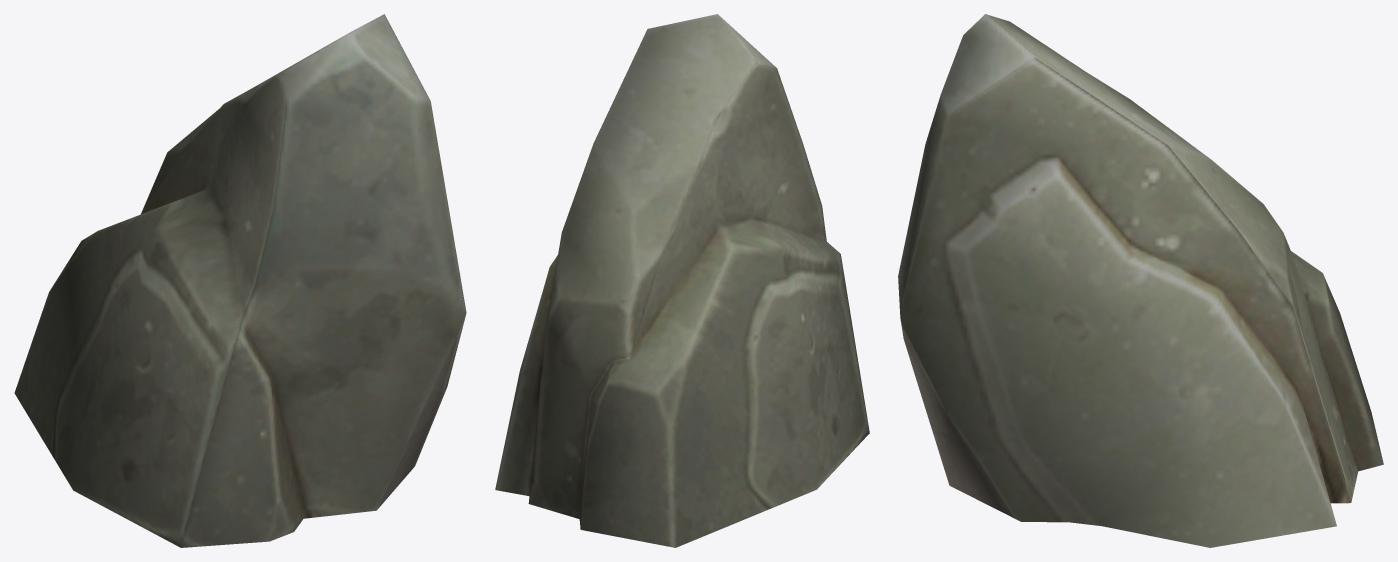
File: Lty_st_02.FBX
3 views of the same model, side by side, from view 1: azimuth 30°, elevation 25°; view 2: azimuth 150°, elevation 25°; view 3: azimuth 270°, elevation 25° (orthographic). The views are drawn at different scales.
Parts seen in each view (by area): view 1: Mesh 1; view 2: Mesh 1; view 3: Mesh 1.
Part boxes in pixels (box(x1,y1,x2,y2)): Mesh 1: box(14, 14, 466, 547); Mesh 1: box(495, 14, 869, 547); Mesh 1: box(898, 14, 1383, 547).
Size of the model in its own units: 91.82 by 123 by 115.
